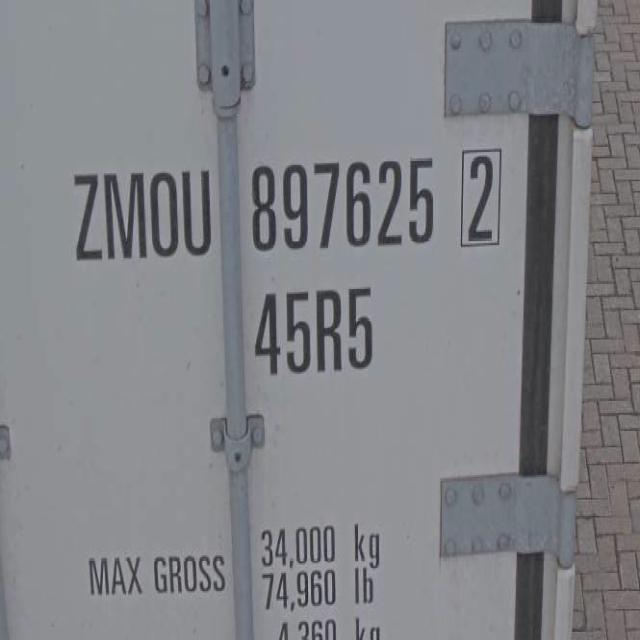dv: (456, 142, 506, 255)
owner: (64, 158, 218, 274)
serial: (245, 146, 437, 260)
size: (248, 280, 382, 387)
